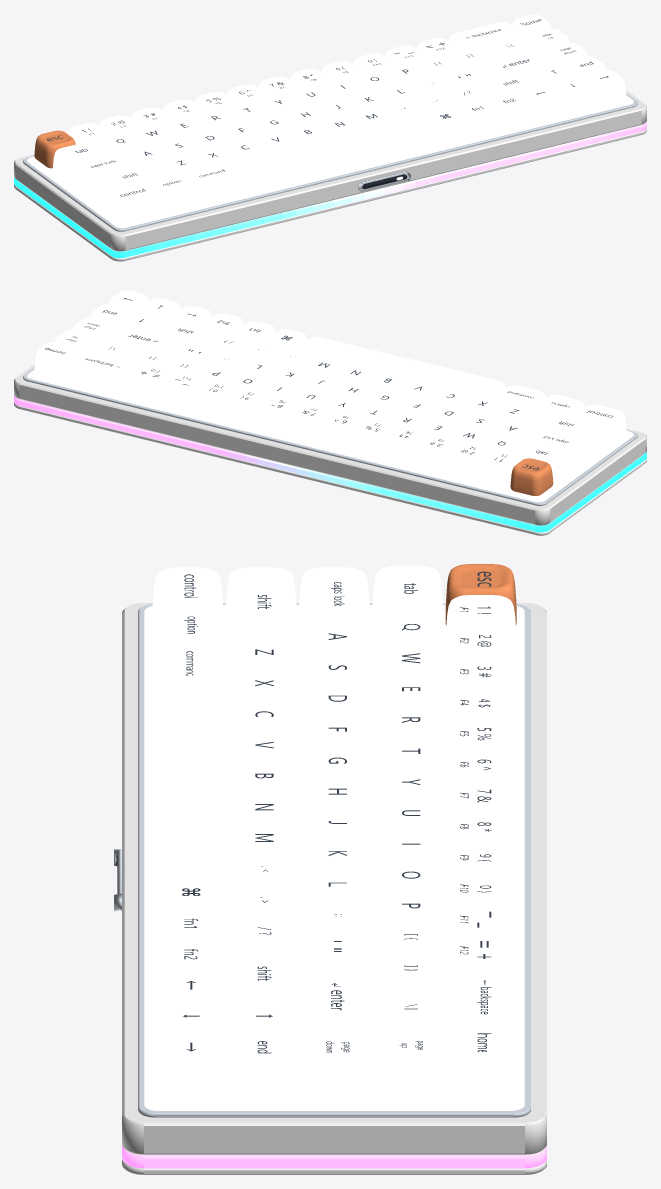
File: hero-keyboard-tight65.glb
The picture shows the model from 3 angles, top to bottom: view 1: azimuth 30°, elevation 25°; view 2: azimuth 150°, elevation 25°; view 3: azimuth 270°, elevation 25°; orthographic projection. The views are drawn at different scales.
Visible parts, largest first — view 1: White upper enclosure, Cap_Space, RGB optical perimeter, Recessed switch plate, Pearl lower housing, Pearl rim under the keybed, Cap_ShiftLeft, Cap_ControlLeft, Cap_MetaLeft, Cap_AltLeft, Cap_CapsLock, Cap_Enter (+61 smaller); view 2: White upper enclosure, RGB optical perimeter, Recessed switch plate, Cap_Space, Pearl lower housing, Pearl rim under the keybed, Cap_Backspace, Cap_ShiftLeft, Cap_Escape, Cap_CapsLock, Cap_Enter, Cap_Tab (+61 smaller); view 3: White upper enclosure, Recessed switch plate, Cap_Space, Pearl rim under the keybed, RGB optical perimeter, Cap_ShiftLeft, Cap_Enter, Cap_PageUp, Cap_ArrowRight, Cap_PageDown, Cap_Home, Cap_End (+61 smaller).
Boxes of the visible parts, x1=… form: White upper enclosure: x1=14, y1=90, x2=646, y2=251; Cap_Space: x1=228, y1=116, x2=436, y2=194; RGB optical perimeter: x1=14, y1=122, x2=646, y2=258; Recessed switch plate: x1=27, y1=95, x2=633, y2=228; Pearl lower housing: x1=14, y1=124, x2=646, y2=261; Pearl rim under the keybed: x1=23, y1=93, x2=637, y2=231; Cap_ShiftLeft: x1=89, y1=163, x2=169, y2=210; Cap_ControlLeft: x1=107, y1=184, x2=158, y2=223; Cap_MetaLeft: x1=188, y1=164, x2=237, y2=204; Cap_AltLeft: x1=149, y1=174, x2=198, y2=213; Cap_CapsLock: x1=71, y1=153, x2=135, y2=196; Cap_Enter: x1=477, y1=50, x2=556, y2=81; White upper enclosure: x1=14, y1=364, x2=646, y2=525; RGB optical perimeter: x1=14, y1=396, x2=646, y2=532; Recessed switch plate: x1=27, y1=370, x2=633, y2=502; Cap_Space: x1=300, y1=336, x2=505, y2=398; Pearl lower housing: x1=14, y1=398, x2=646, y2=535; Pearl rim under the keybed: x1=23, y1=368, x2=637, y2=505; Cap_Backspace: x1=66, y1=350, x2=138, y2=395; Cap_ShiftLeft: x1=527, y1=410, x2=608, y2=457; Cap_Escape: x1=510, y1=458, x2=553, y2=495; Cap_CapsLock: x1=524, y1=427, x2=589, y2=470; Cap_Enter: x1=104, y1=325, x2=183, y2=359; Cap_Tab: x1=514, y1=442, x2=571, y2=483; White upper enclosure: x1=122, y1=603, x2=546, y2=1154; Recessed switch plate: x1=144, y1=605, x2=524, y2=1110; Cap_Space: x1=152, y1=683, x2=223, y2=907; Pearl rim under the keybed: x1=138, y1=604, x2=530, y2=1117; RGB optical perimeter: x1=122, y1=1145, x2=546, y2=1168; Cap_ShiftLeft: x1=226, y1=567, x2=296, y2=667; Cap_Enter: x1=299, y1=962, x2=369, y2=1062; Cap_PageUp: x1=372, y1=1030, x2=443, y2=1100; Cap_ArrowRight: x1=152, y1=1032, x2=223, y2=1102; Cap_PageDown: x1=299, y1=1032, x2=369, y2=1102; Cap_Home: x1=445, y1=1028, x2=516, y2=1098; Cap_End: x1=226, y1=1032, x2=296, y2=1102.
Bounding box in the file's own units: 16.85 × 1.68 × 5.91.
